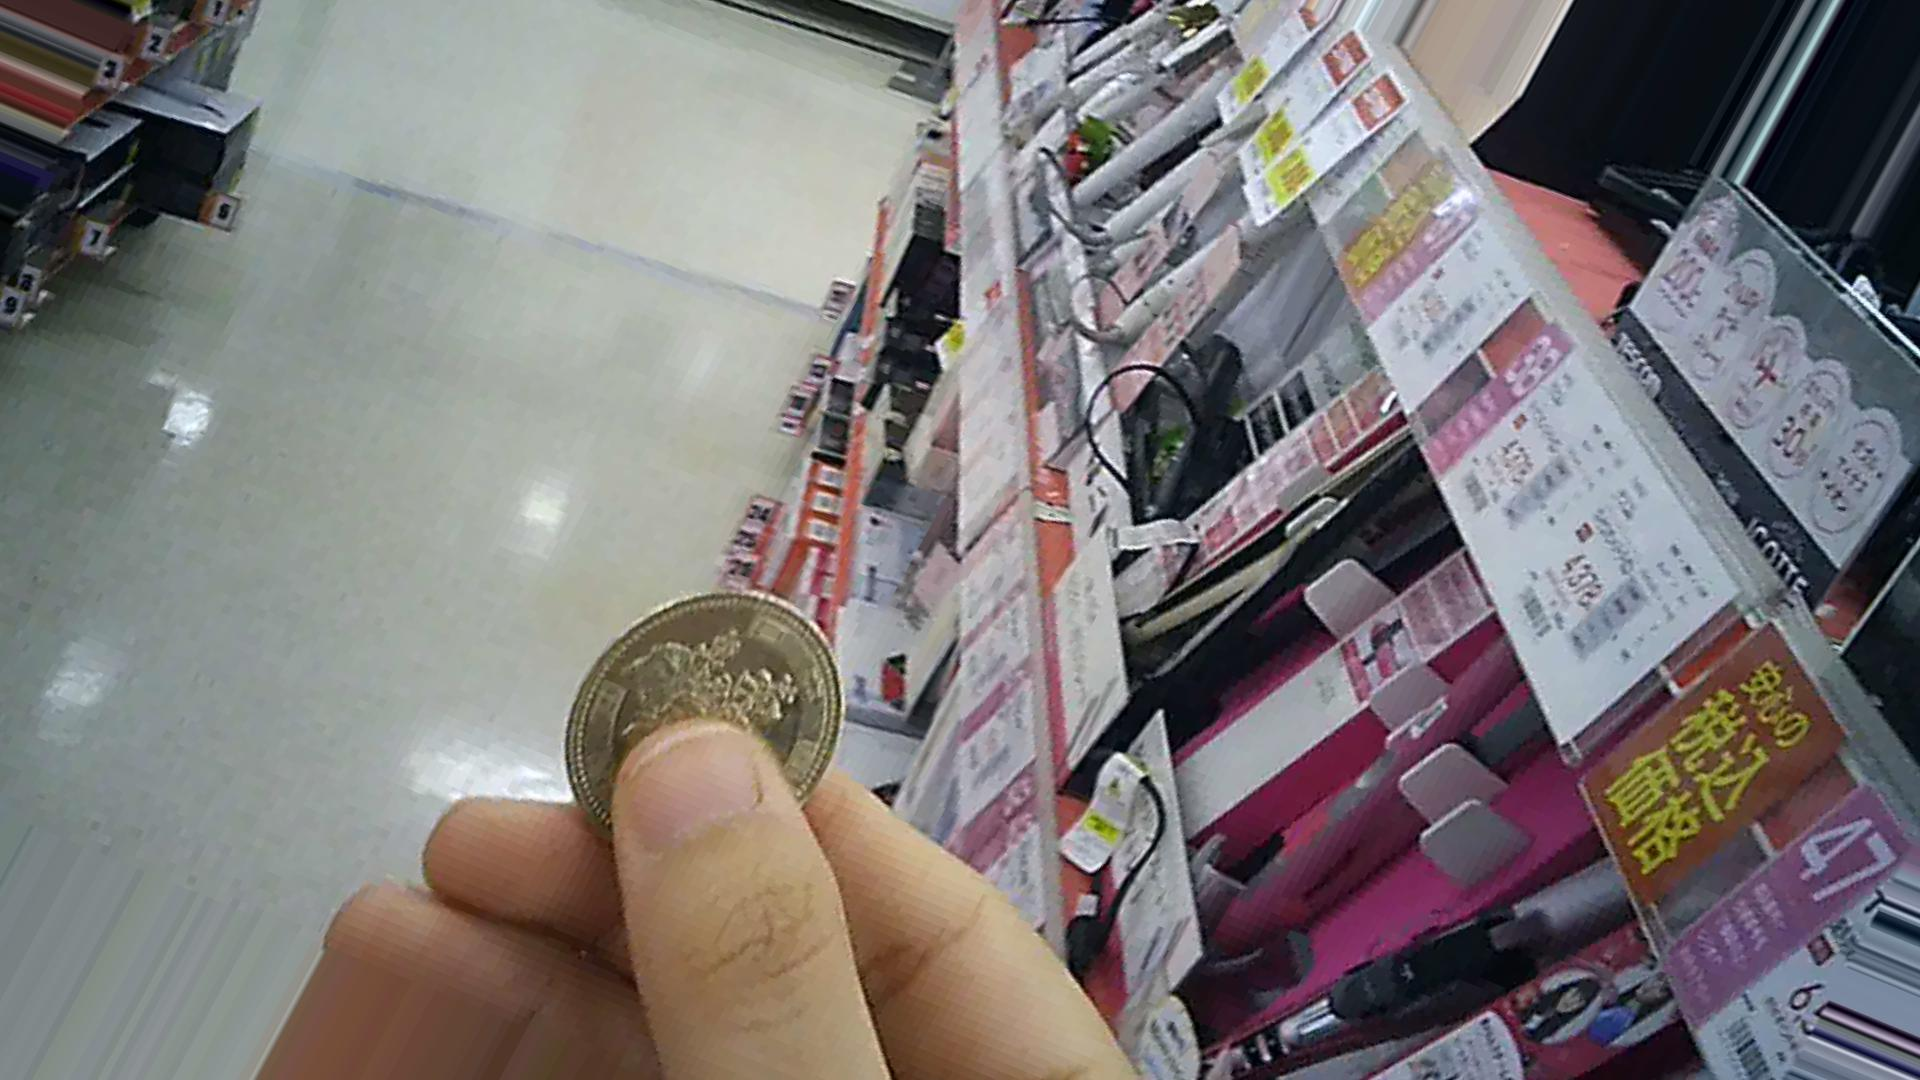500 Yen: (541, 589, 843, 855)
